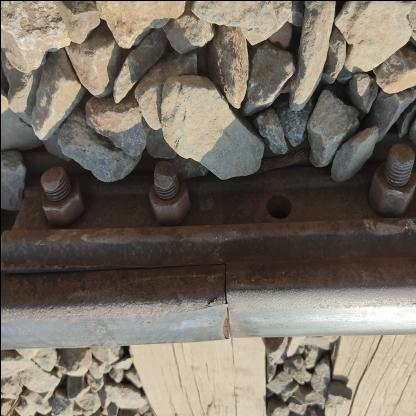Defective 3: (1, 129, 415, 279)
